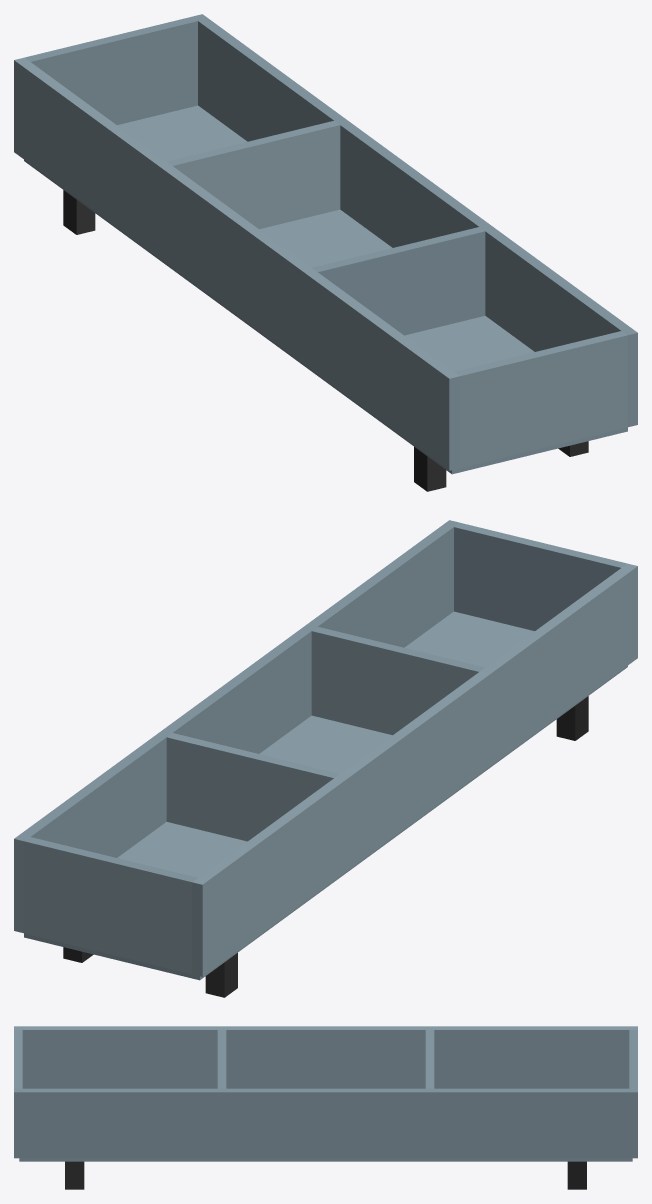
The model's file is N02_Trough_3Slots.fbx.
The picture shows the model from 3 angles, top to bottom: view 1: azimuth 30°, elevation 25°; view 2: azimuth 150°, elevation 25°; view 3: azimuth 270°, elevation 25°; orthographic projection. The views are drawn at different scales.
Visible parts, largest first — view 1: N02_Trough_3Slots.001; view 2: N02_Trough_3Slots.001; view 3: N02_Trough_3Slots.001.
Part boxes in pixels (bbox=[...]): N02_Trough_3Slots.001: bbox=[14, 14, 637, 491]; N02_Trough_3Slots.001: bbox=[14, 520, 637, 997]; N02_Trough_3Slots.001: bbox=[14, 1026, 637, 1189].
Size of the model in its own units: 0.9 by 0.65 by 3.6.
